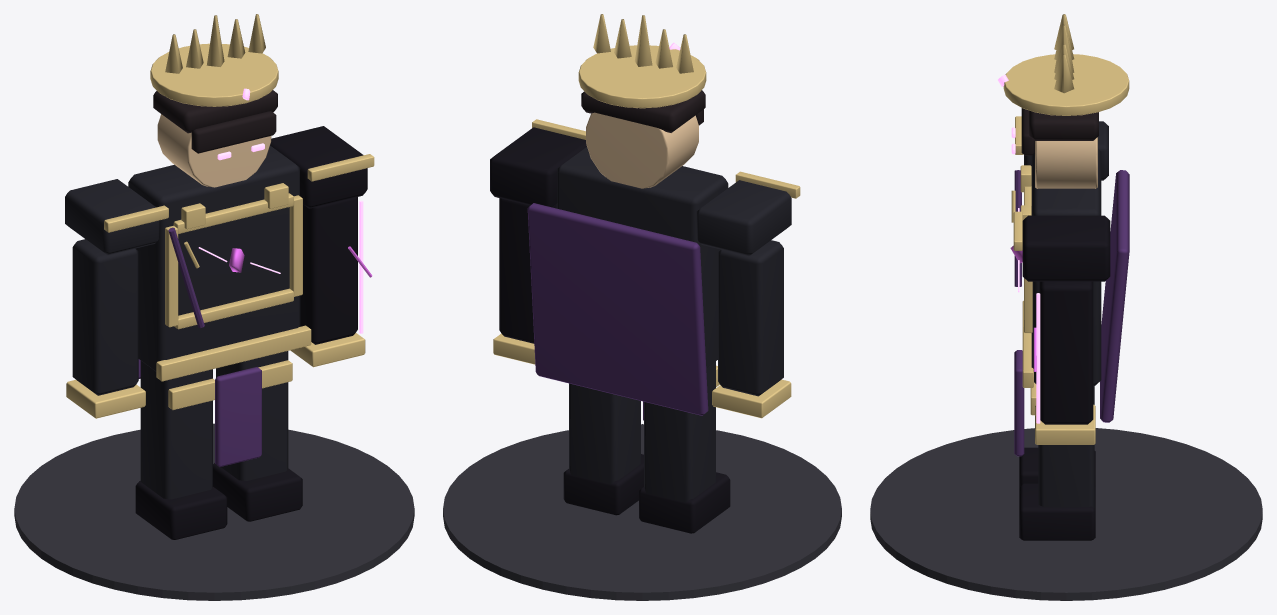
File: crownbound_challenger_v3.fbx
3 renders of one model, left to right at view 1: azimuth 30°, elevation 25°; view 2: azimuth 150°, elevation 25°; view 3: azimuth 270°, elevation 25°, orthographic.
Visible parts, largest first — view 1: Preview_Base_Disc, Torso_Black_Armor, Arm_Left_Armor, Leg_Left_Armor, Arm_Right_Corrupted_Armor, Crown_Circlet, Shoulder_Left_Gold_Edged, Royal_Waist_Cloth, Shoulder_Right_Corrupted, Head_Roblox_BlockRounded, Leg_Right_Armor, Boot_Left (+19 smaller); view 2: Preview_Base_Disc, Short_Torn_Royal_Cape, Torso_Black_Armor, Arm_Left_Armor, Leg_Left_Armor, Leg_Right_Armor, Head_Roblox_BlockRounded, Crown_Circlet, Shoulder_Left_Gold_Edged, Shoulder_Right_Corrupted, Arm_Right_Corrupted_Armor, Boot_Left (+6 smaller); view 3: Preview_Base_Disc, Arm_Right_Corrupted_Armor, Shoulder_Right_Corrupted, Crown_Circlet, Short_Torn_Royal_Cape, Torso_Black_Armor, Leg_Right_Armor, Boot_Right, Head_Roblox_BlockRounded, Hair_Shadow_Cap, Wrist_Right_Gold, Royal_Waist_Cloth (+4 smaller).
Part boxes in pixels (box(x1,y1,x2,y2)): Preview_Base_Disc: box(14, 423, 414, 600); Torso_Black_Armor: box(128, 145, 300, 371); Arm_Left_Armor: box(72, 239, 138, 395); Leg_Left_Armor: box(140, 361, 212, 499); Arm_Right_Corrupted_Armor: box(300, 197, 357, 344); Crown_Circlet: box(150, 43, 278, 106); Shoulder_Left_Gold_Edged: box(65, 179, 159, 255); Royal_Waist_Cloth: box(215, 367, 261, 466); Shoulder_Right_Corrupted: box(270, 126, 367, 208); Head_Roblox_BlockRounded: box(157, 114, 271, 187); Leg_Right_Armor: box(216, 351, 288, 480); Boot_Left: box(135, 481, 227, 539); Preview_Base_Disc: box(443, 424, 841, 600); Short_Torn_Royal_Cape: box(527, 203, 708, 415); Torso_Black_Armor: box(556, 147, 728, 367); Arm_Left_Armor: box(718, 240, 783, 396); Leg_Left_Armor: box(644, 361, 715, 502); Leg_Right_Armor: box(569, 383, 640, 484); Head_Roblox_BlockRounded: box(586, 108, 698, 188); Crown_Circlet: box(578, 45, 706, 108); Shoulder_Left_Gold_Edged: box(696, 180, 791, 256); Shoulder_Right_Corrupted: box(490, 127, 586, 207); Arm_Right_Corrupted_Armor: box(499, 198, 556, 343); Boot_Left: box(639, 472, 730, 533); Preview_Base_Disc: box(870, 428, 1262, 600); Arm_Right_Corrupted_Armor: box(1039, 281, 1093, 424); Shoulder_Right_Corrupted: box(1022, 215, 1110, 281); Crown_Circlet: box(1003, 54, 1129, 115); Short_Torn_Royal_Cape: box(1100, 170, 1129, 422); Torso_Black_Armor: box(1031, 149, 1101, 386); Leg_Right_Armor: box(1038, 386, 1094, 507); Boot_Right: box(1019, 483, 1095, 540); Head_Roblox_BlockRounded: box(1035, 137, 1097, 188); Hair_Shadow_Cap: box(1029, 110, 1098, 140); Wrist_Right_Gold: box(1035, 404, 1095, 444); Royal_Waist_Cloth: box(1014, 350, 1024, 456).
Size of the model in its own units: 350 by 484 by 350.
